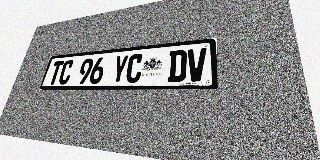6: (88, 57, 107, 84)
9: (76, 58, 94, 84)
C: (125, 53, 144, 83), (57, 60, 75, 85)
D: (167, 49, 187, 82)
T: (47, 61, 64, 85)
V: (186, 48, 206, 82)
Y: (110, 55, 129, 83)
